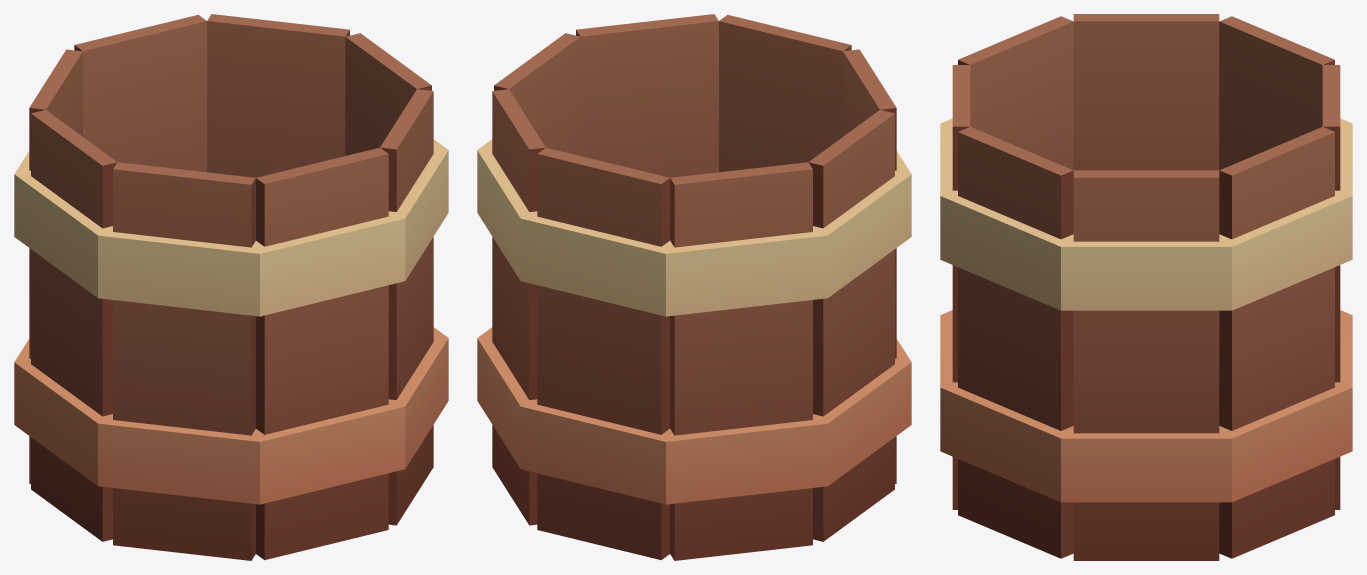
Rendered from barrel.obj.
The picture shows the model from 3 angles, left to right: view 1: azimuth 30°, elevation 25°; view 2: azimuth 150°, elevation 25°; view 3: azimuth 270°, elevation 25°; orthographic projection.
Visible parts, largest first — view 1: Barrel; view 2: Barrel; view 3: Barrel.
Boxes of the visible parts, left/top/right/bottom form: Barrel: left=14, top=14, right=448, bottom=560; Barrel: left=477, top=14, right=911, bottom=560; Barrel: left=940, top=14, right=1352, bottom=560.
Bounding box in the file's own units: 1.46 × 1.5 × 1.46.
Materials: 1 (1 with a texture image).
